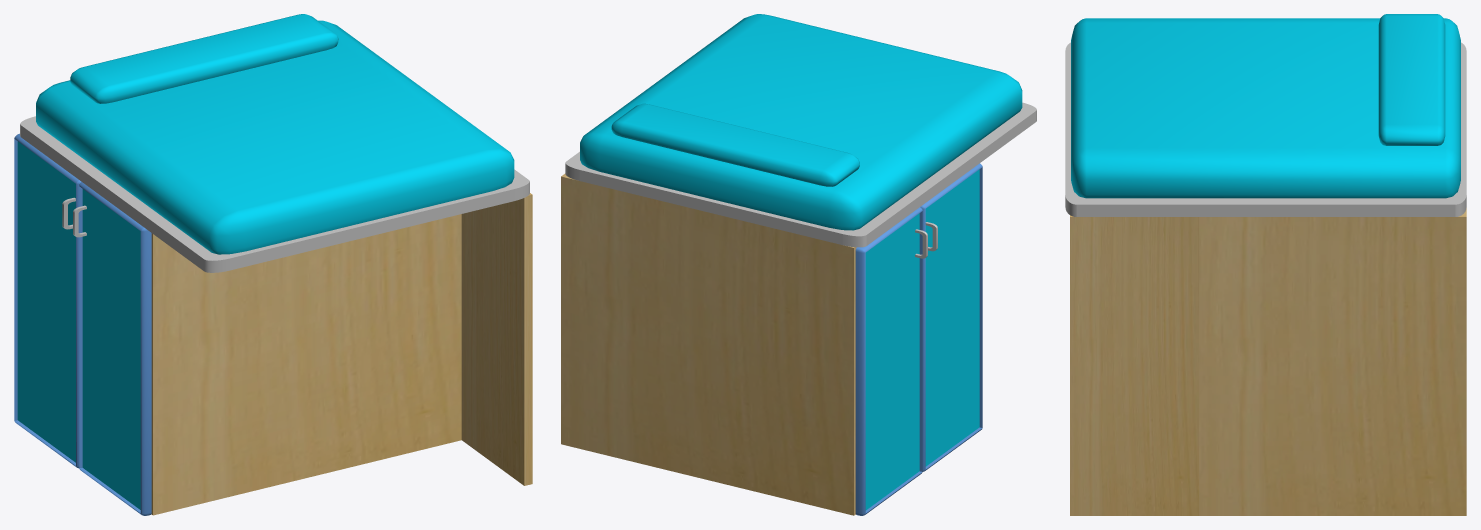
Rendered from sh-lp-letto-soppalco-azzurro.glb.
The picture shows the model from 3 angles, left to right: view 1: azimuth 30°, elevation 25°; view 2: azimuth 150°, elevation 25°; view 3: azimuth 270°, elevation 25°; orthographic projection. The views are drawn at different scales.
Visible parts, largest first — view 1: ChamferBox13_4, Box15_1, Rectangle01_3, ChamferBox24_6; view 2: ChamferBox13_4, Box15_1, Rectangle01_3, ChamferBox24_6; view 3: Box15_1, ChamferBox13_4, Rectangle01_3.
Part boxes in pixels (x1,y1,x2,y2): ChamferBox13_4: [17, 14, 514, 509]; Box15_1: [151, 193, 532, 515]; Rectangle01_3: [20, 116, 529, 272]; ChamferBox24_6: [14, 133, 151, 515]; ChamferBox13_4: [580, 14, 1022, 510]; Box15_1: [561, 173, 856, 515]; Rectangle01_3: [565, 102, 1036, 247]; ChamferBox24_6: [855, 163, 982, 515]; Box15_1: [1070, 208, 1466, 515]; ChamferBox13_4: [1071, 14, 1460, 198]; Rectangle01_3: [1065, 42, 1466, 216].
Size of the model in its own units: 1 by 1 by 1.
4 materials, 1 textured.
